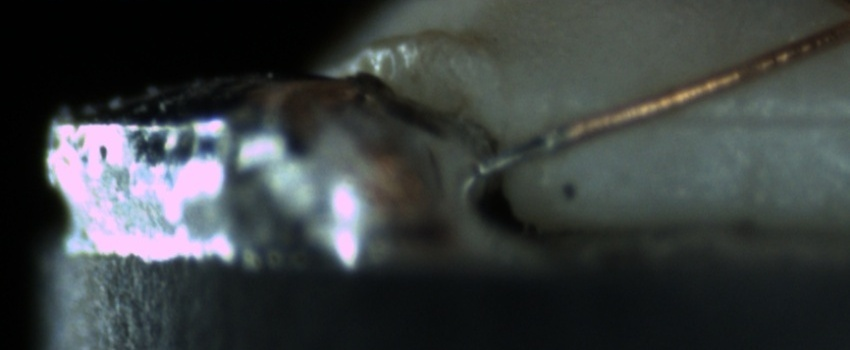DL: (669, 83, 848, 151)
TS: (471, 124, 570, 178)
TTCW: (476, 113, 589, 178)
